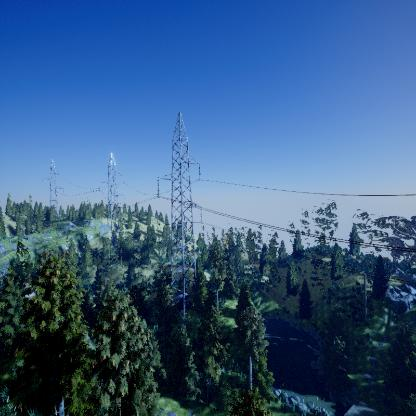tower: (150, 108, 209, 325), (95, 150, 129, 244)
